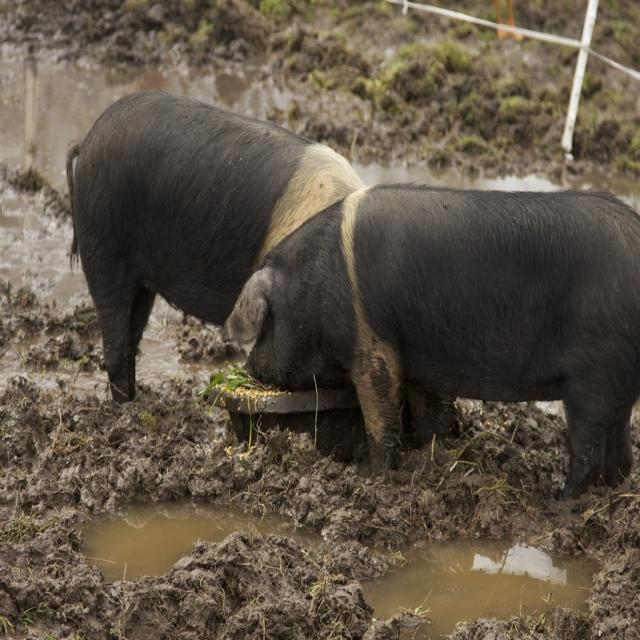Pig: (222, 179, 640, 501), (65, 90, 366, 407)
